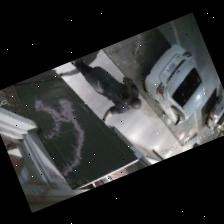person: (71, 58, 141, 122)
